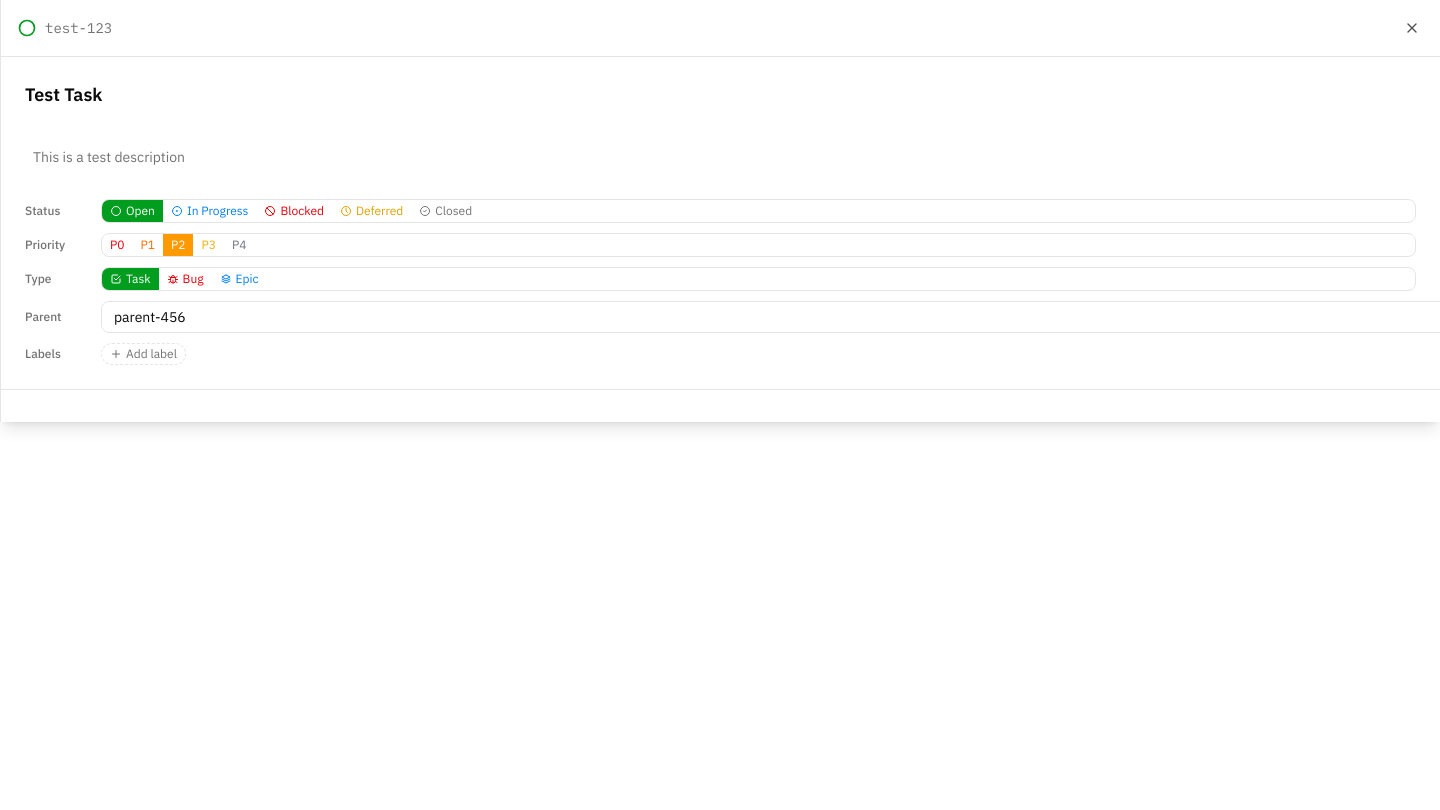
Test case: TaskDetailsDialog › description editing › switches to edit mode when description is clicked
Click on the description text to enter edit mode
Click the button "This is a test description".
click(109, 157)  # box [25, 139, 1416, 175]
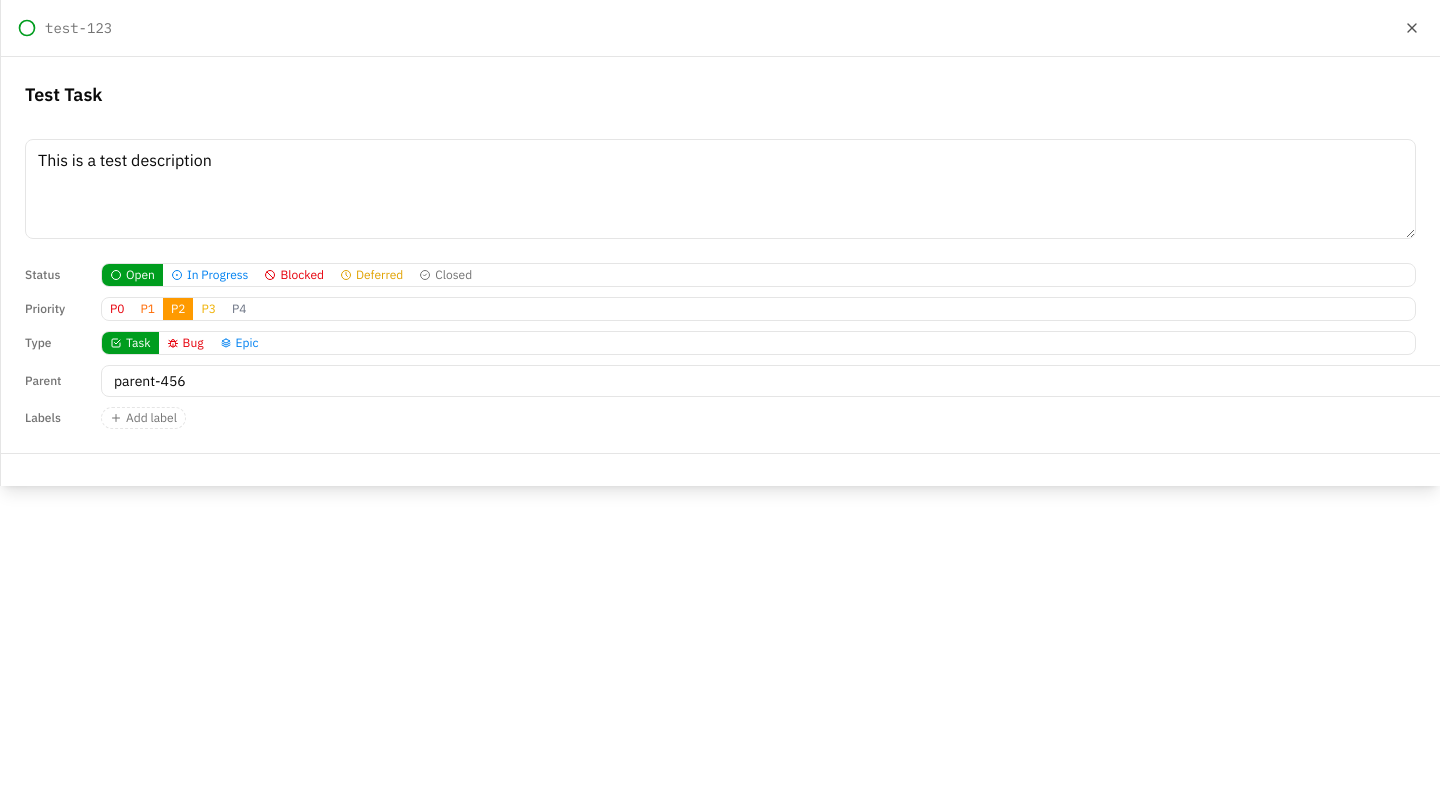
Check: the 2nd text box with placeholder "Add description..." holds "This is a test description", box [25, 139, 1416, 239]
